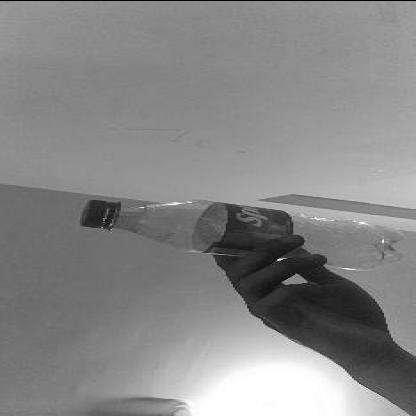plastic_bottles: (84, 192, 392, 261)
